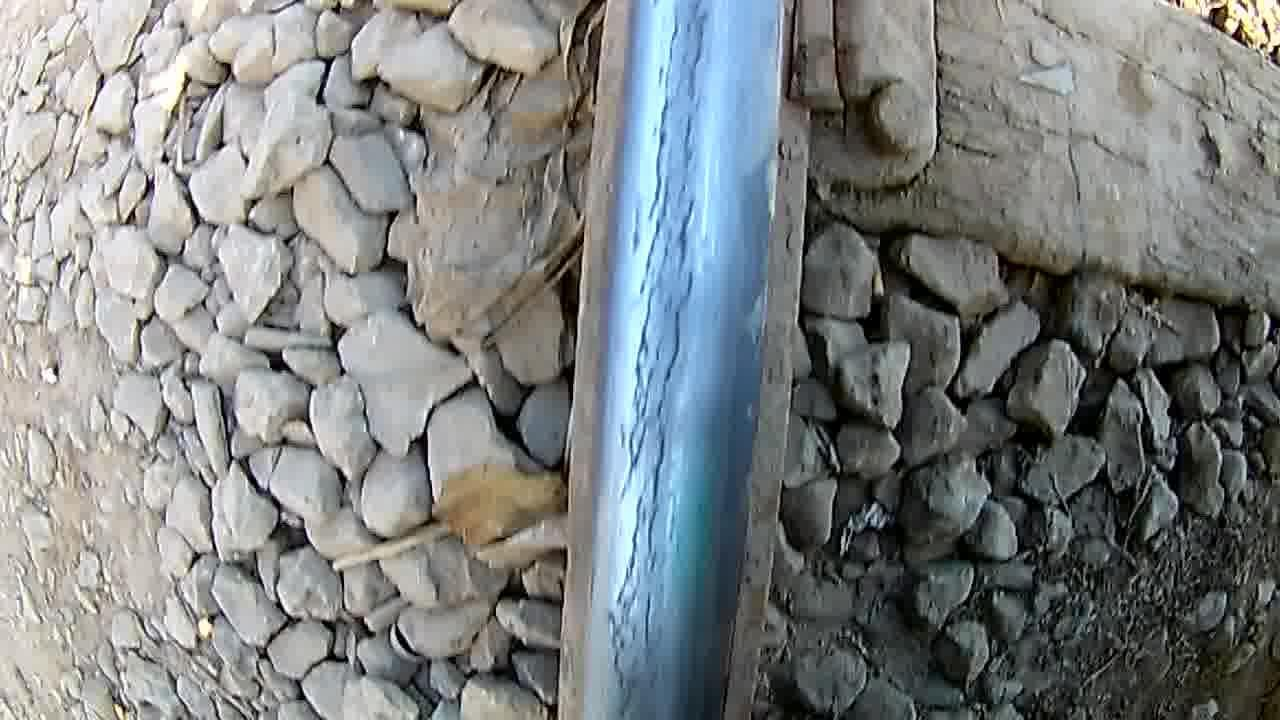crack: (608, 6, 716, 719)
